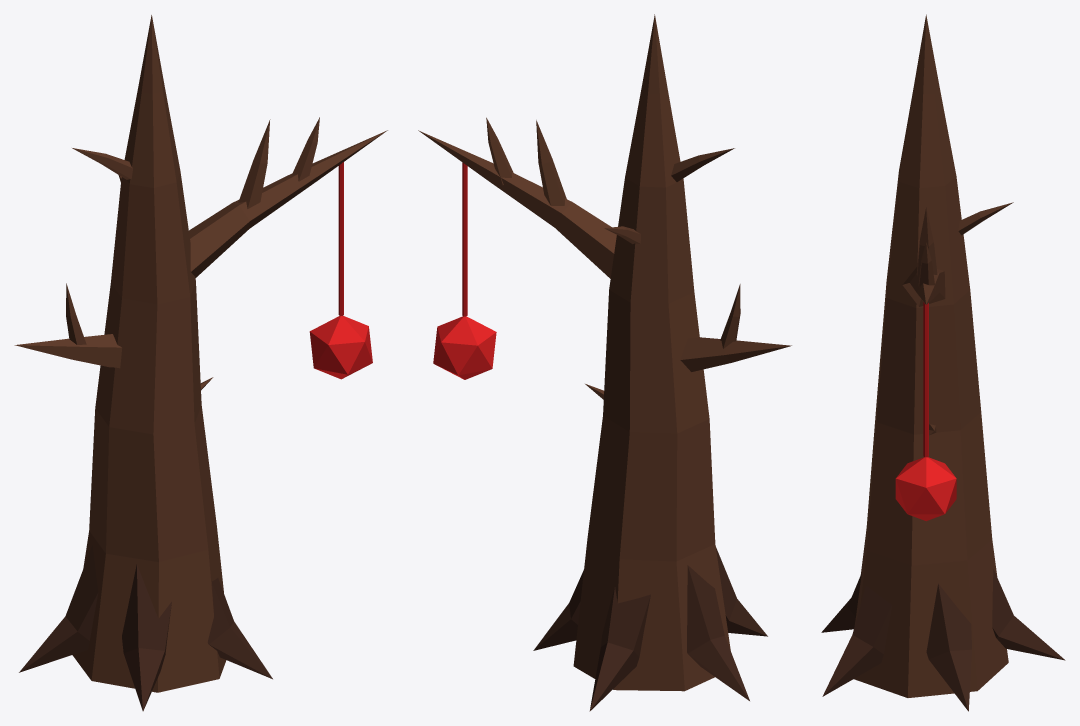
The model's file is zc_dead_tree.mobile-mid.glb.
The picture shows the model from 3 angles, left to right: view 1: azimuth 30°, elevation 25°; view 2: azimuth 150°, elevation 25°; view 3: azimuth 270°, elevation 25°; orthographic projection.
Visible parts, largest first — view 1: zc_dead_tree, yarn; view 2: zc_dead_tree, yarn; view 3: zc_dead_tree, yarn.
Part boxes in pixels (box(x1,y1,x2,y2)): zc_dead_tree: box(14, 15, 387, 711); yarn: box(309, 162, 372, 379); zc_dead_tree: box(418, 14, 791, 711); yarn: box(433, 162, 496, 379); zc_dead_tree: box(821, 14, 1065, 711); yarn: box(895, 302, 956, 521).
Bounding box in the file's own units: 1.58 × 2.61 × 0.8894.
Materials: 1 (1 with a texture image).
